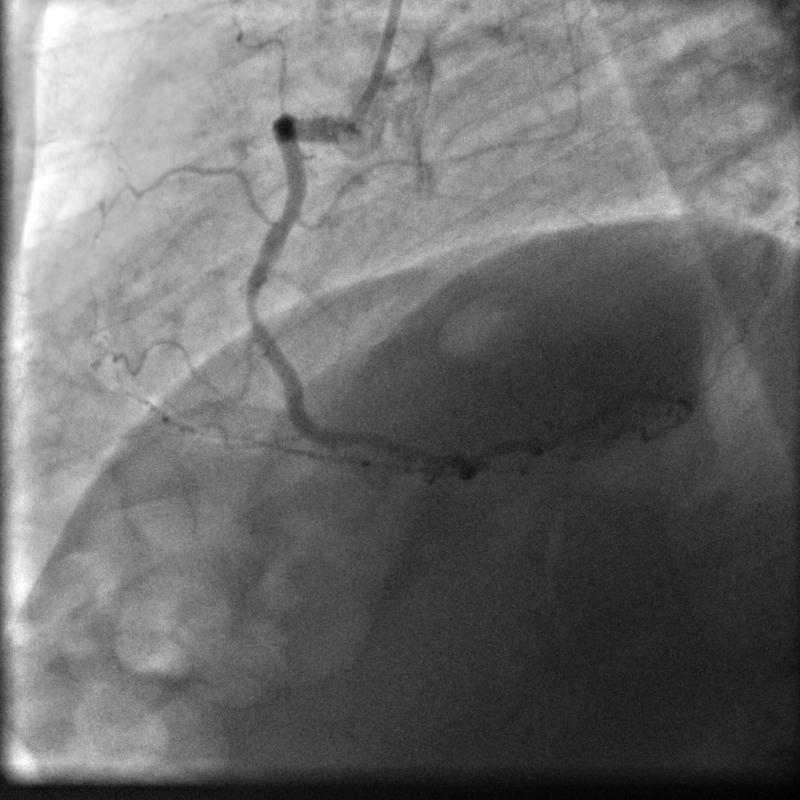Stenosis: (238, 286, 266, 323)
